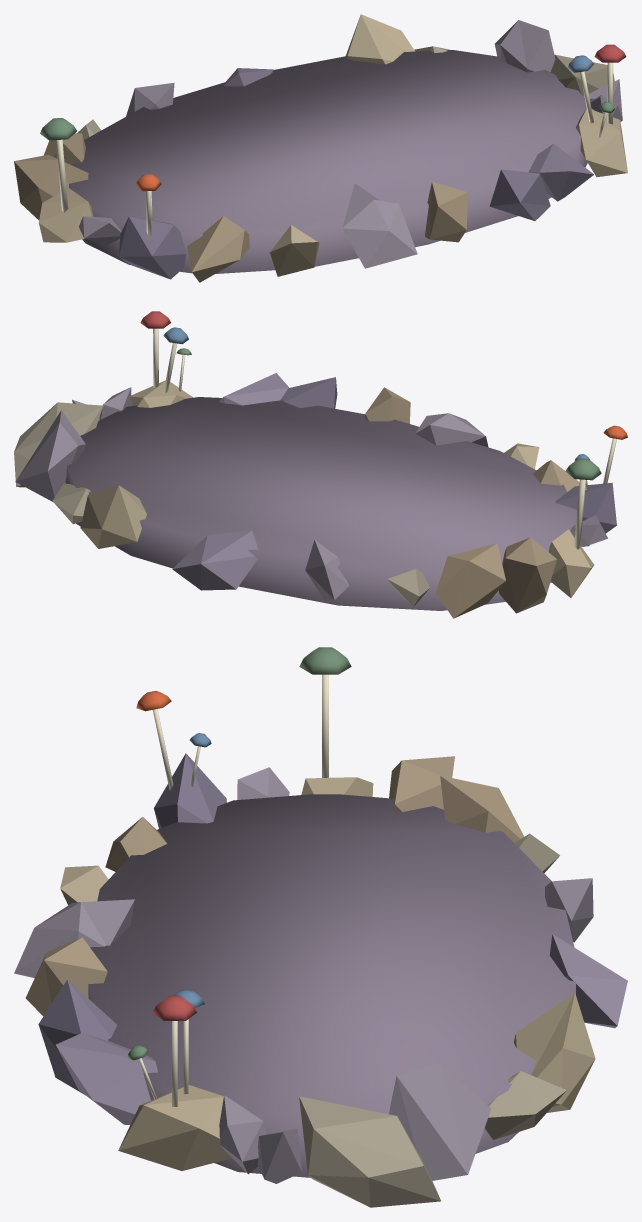
The model's file is Pedestal.glb.
3 views of the same model, one above another, from view 1: azimuth 30°, elevation 25°; view 2: azimuth 150°, elevation 25°; view 3: azimuth 270°, elevation 25° (orthographic). The views are drawn at different scales.
Parts seen in each view (by area): view 1: pedestal; view 2: pedestal; view 3: pedestal.
Part boxes in pixels (left/top/right/bottom): pedestal: left=14, top=14, right=627, bottom=282; pedestal: left=14, top=311, right=627, bottom=618; pedestal: left=14, top=647, right=627, bottom=1207.
Bounding box in the file's own units: 7.06 × 1.6 × 4.64.
1 material, 1 textured.
